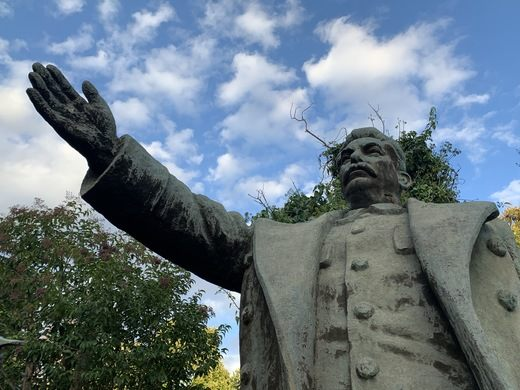person-like: (24, 56, 520, 389)
